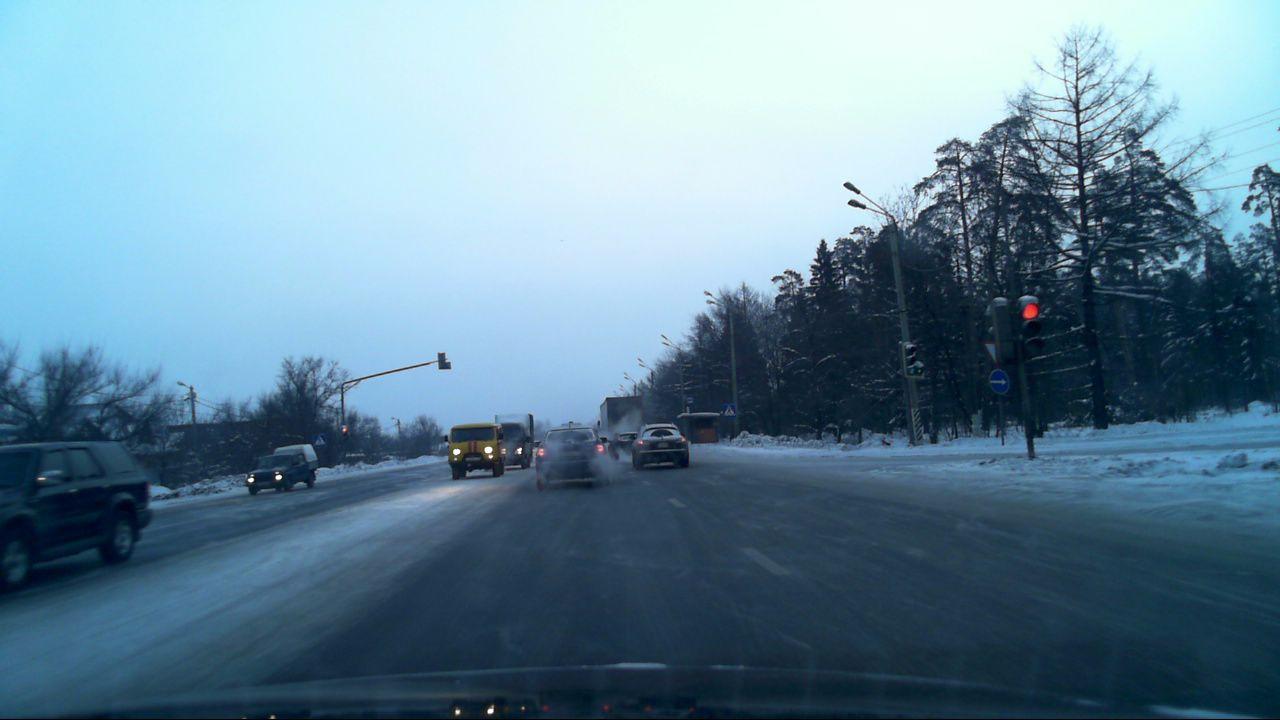Turn Right: (988, 368, 1011, 395)
